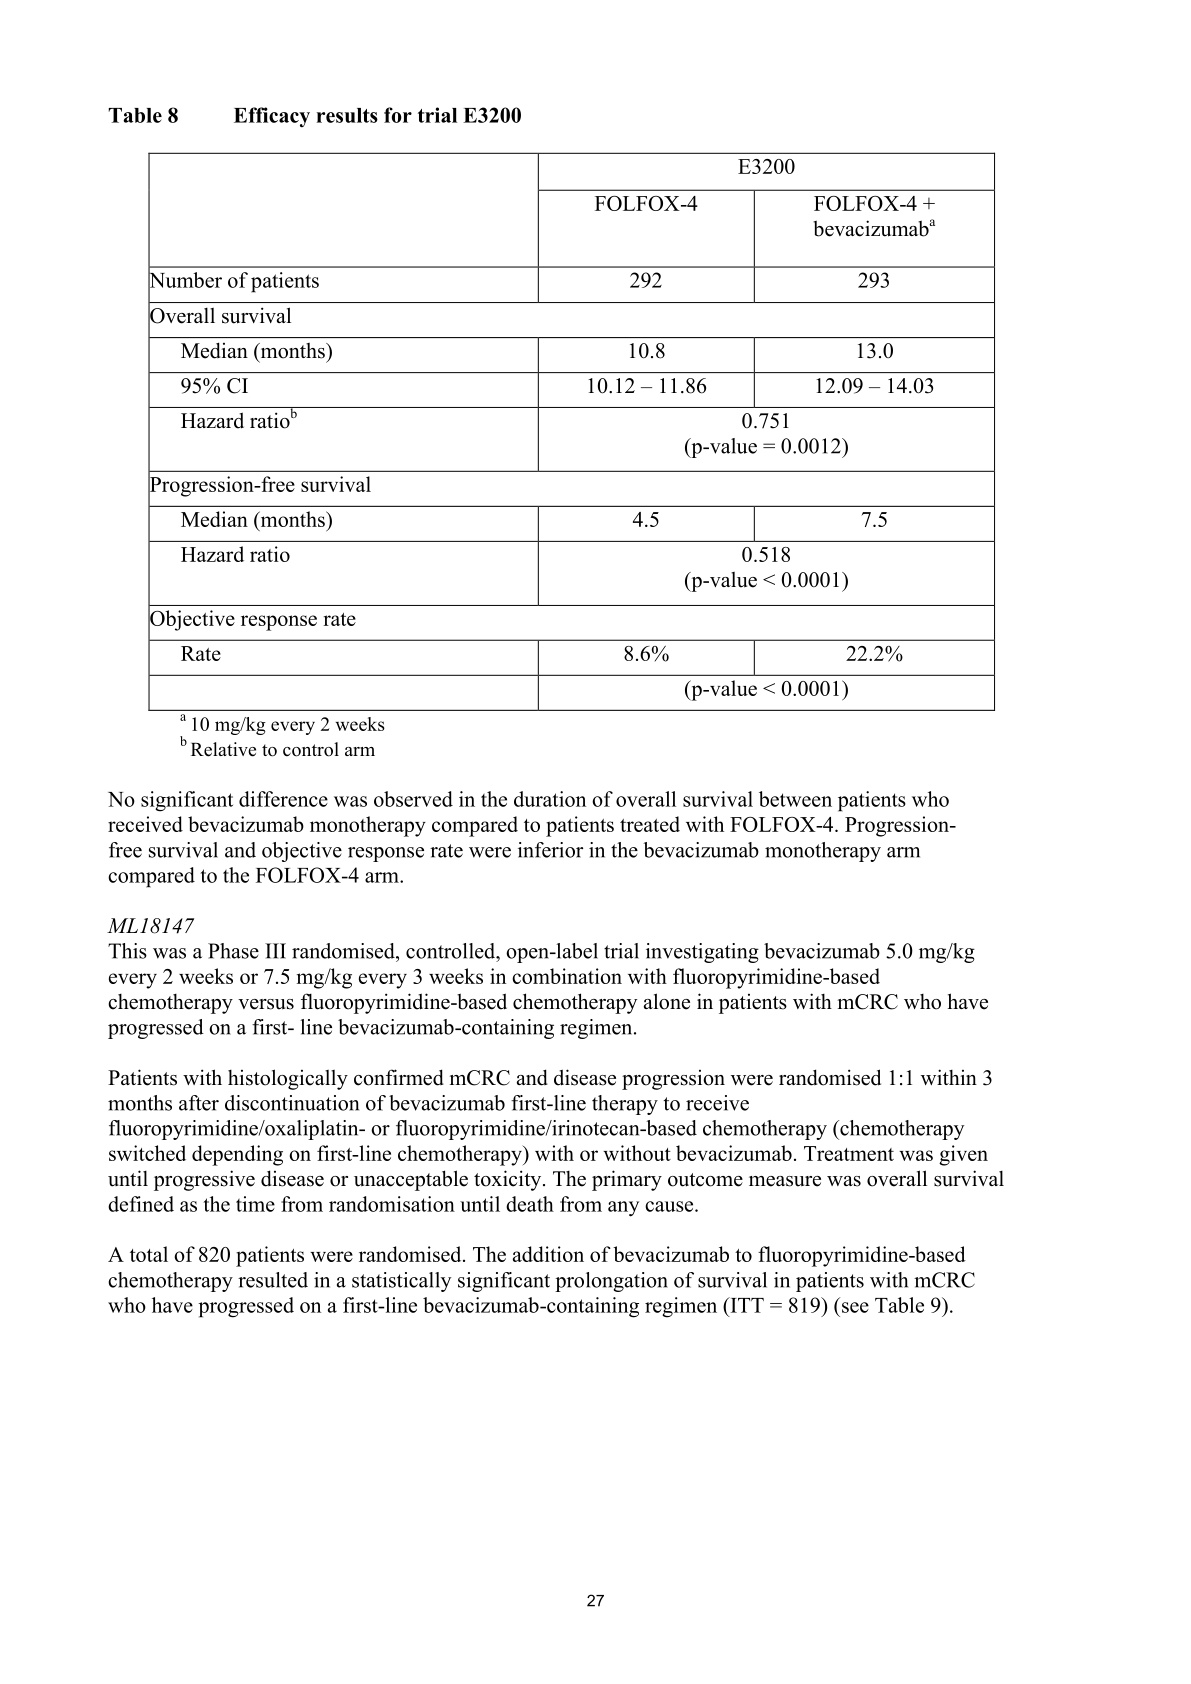merged_cells: (148, 151, 995, 713)
